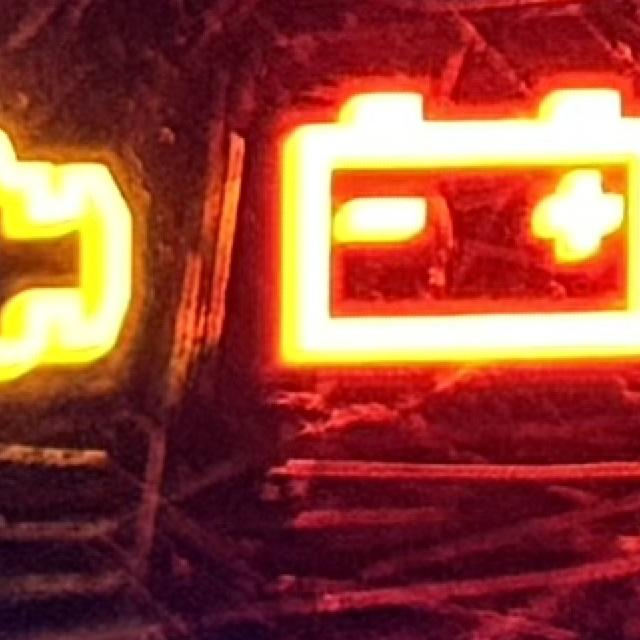Battery Issue: (270, 82, 640, 372)
